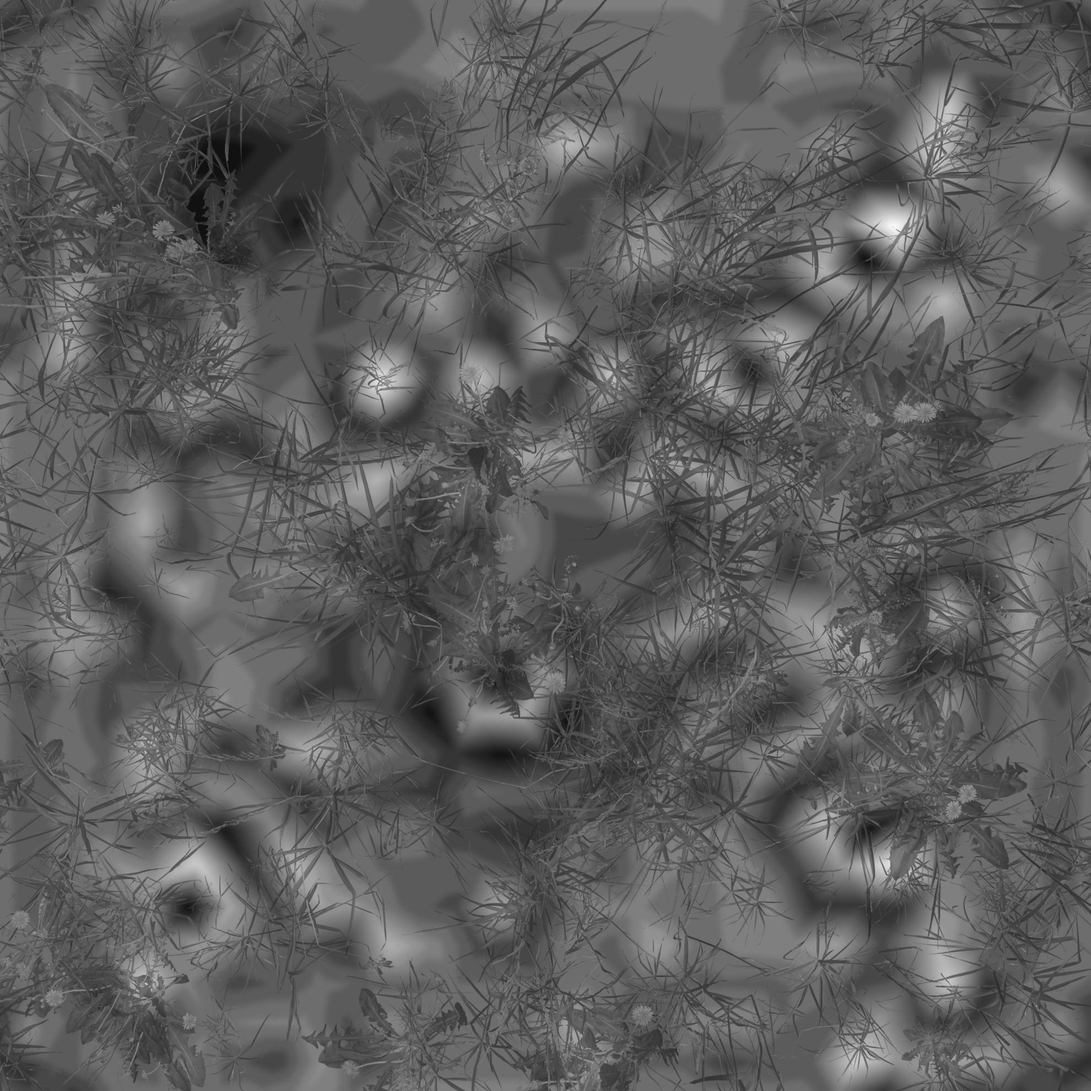landmine: (431, 598, 578, 756), (166, 123, 320, 267)
